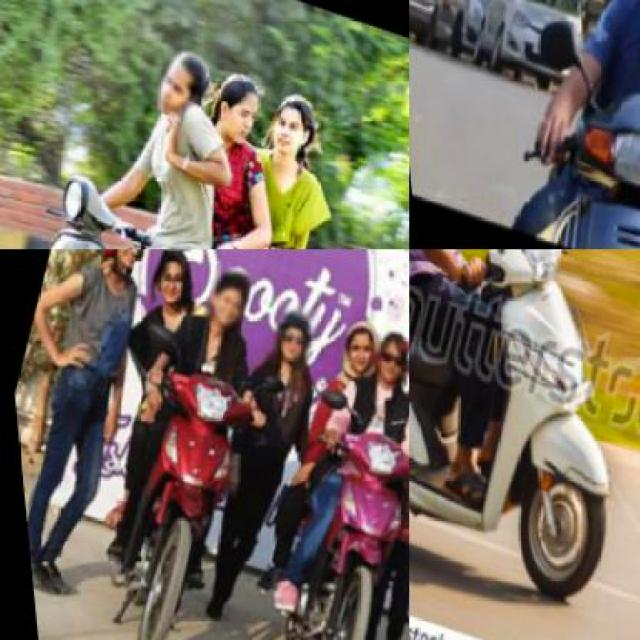With Helmet: (255, 298, 322, 376), (82, 249, 166, 280)
Without Helmet: (194, 63, 277, 162), (252, 81, 332, 174), (144, 36, 218, 124), (326, 314, 392, 389), (193, 261, 258, 337), (355, 318, 408, 394)
